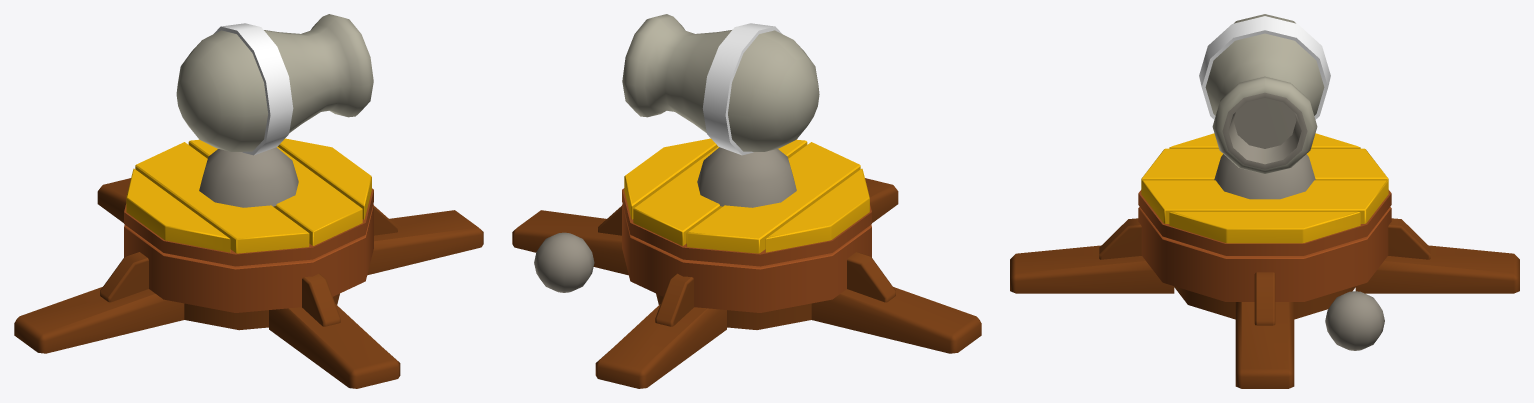
File: island3-connanball1.fbx
3 renders of one model, left to right at view 1: azimuth 30°, elevation 25°; view 2: azimuth 150°, elevation 25°; view 3: azimuth 270°, elevation 25°, orthographic.
Visible parts, largest first — view 1: islnd3-cannonball1, island3-cannonball1.01; view 2: islnd3-cannonball1, island3-cannonball1.01, ball; view 3: islnd3-cannonball1, island3-cannonball1.01, ball.
Part boxes in pixels (bbox=[...]): islnd3-cannonball1: bbox=[14, 138, 483, 388]; island3-cannonball1.01: bbox=[176, 14, 373, 207]; islnd3-cannonball1: bbox=[512, 138, 981, 388]; island3-cannonball1.01: bbox=[622, 14, 819, 207]; ball: bbox=[534, 232, 594, 292]; islnd3-cannonball1: bbox=[1010, 133, 1519, 388]; island3-cannonball1.01: bbox=[1199, 14, 1330, 199]; ball: bbox=[1325, 291, 1384, 350].
Size of the model in its own units: 4.26 by 2.4 by 4.26.
1 material, 1 textured.
